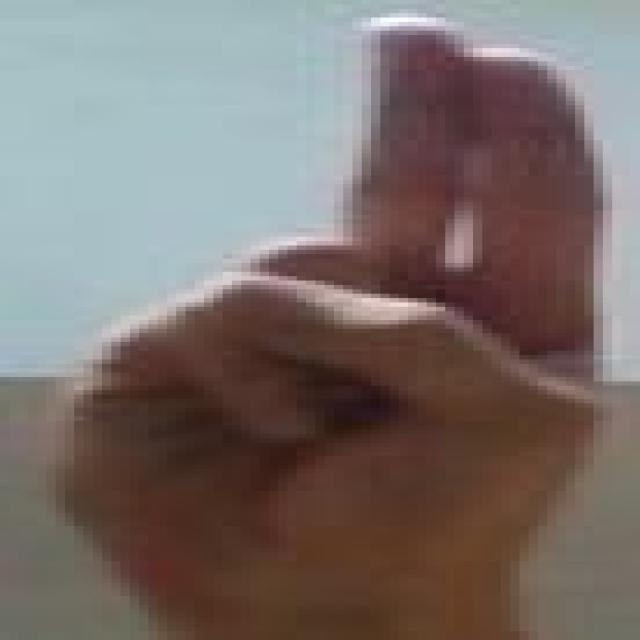U: (41, 2, 640, 610)
